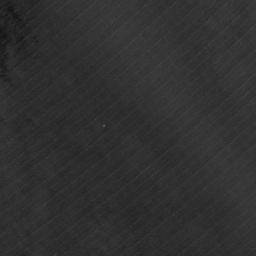Target: (100, 122, 107, 129)
